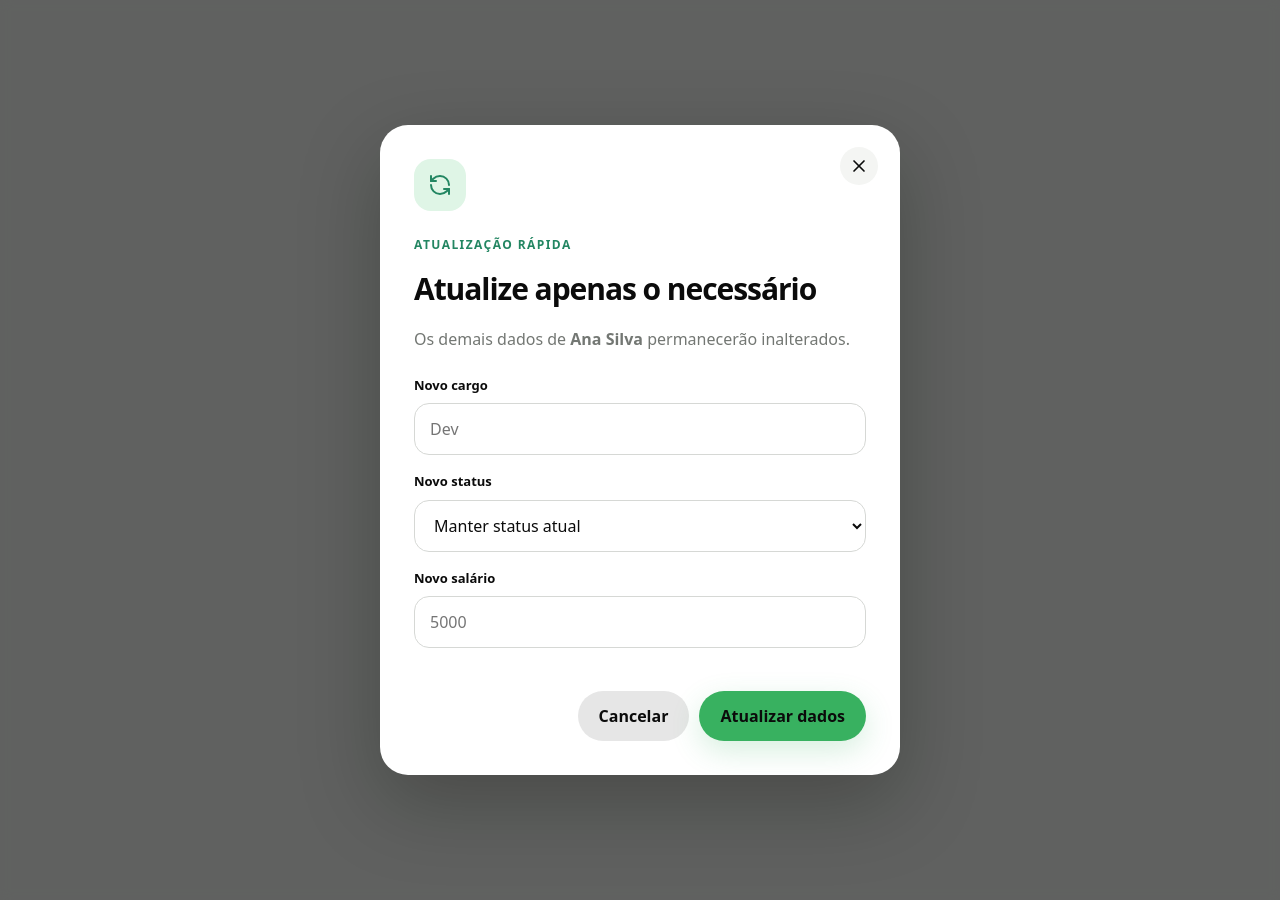
Test: QuickUpdateModal › recusa um PATCH sem alterações
Click the button "Atualizar dados" at (783, 716), box [699,691,866,741]
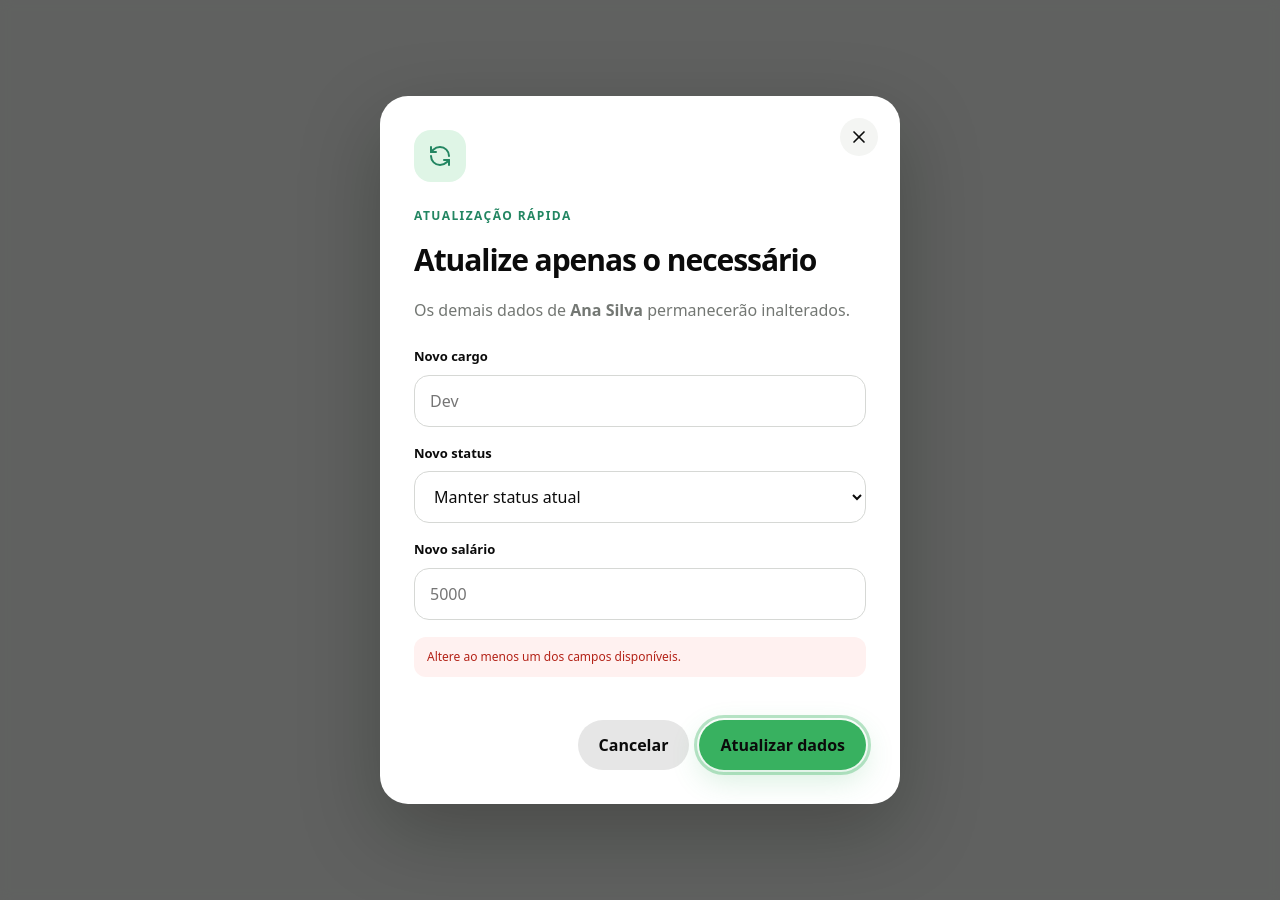
expect the text "Altere ao menos um dos campos disponíveis." is shown: met, box [414,637,866,677]
